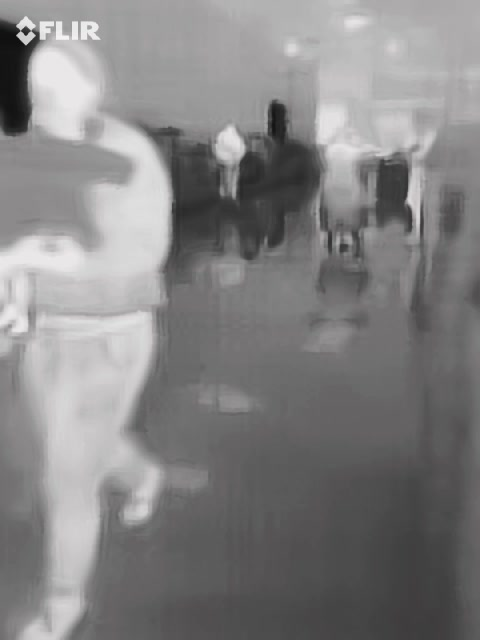head: (25, 31, 105, 133)
